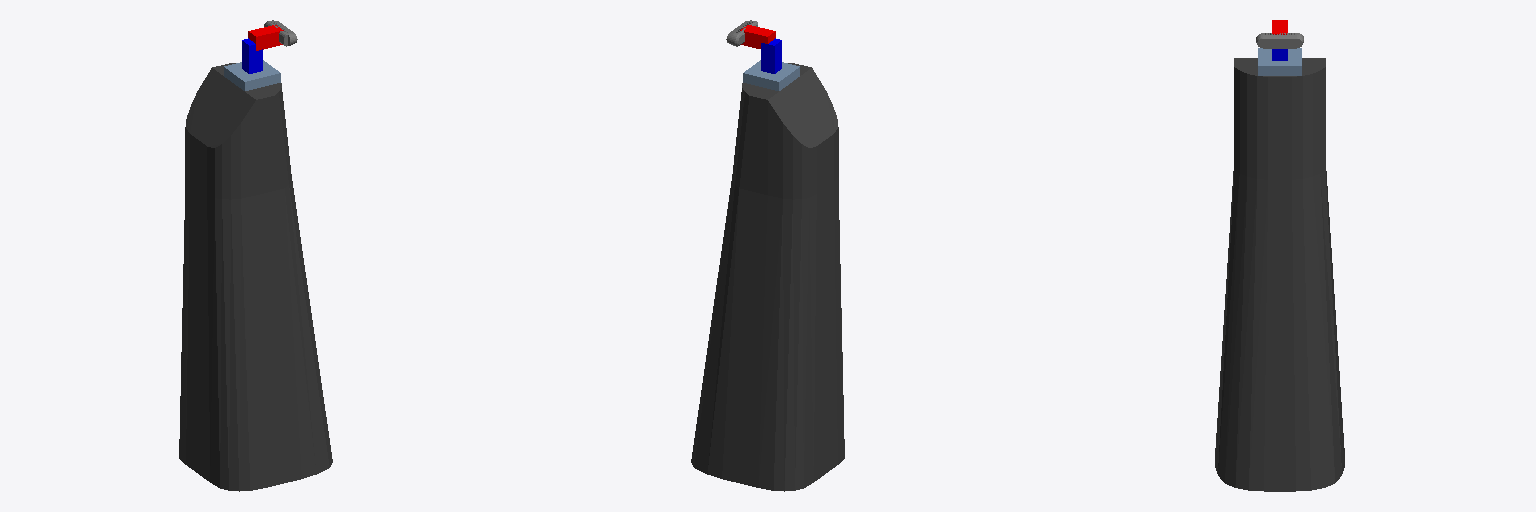
robot.urdf — Gopher Presence:
<?xml version="1.0" encoding="utf-8"?>
<!-- =================================================================================== -->
<!-- |    This document was autogenerated by xacro from gopher_presence.xacro                   | -->
<!-- |    EDITING THIS FILE BY HAND IS NOT RECOMMENDED                                 | -->
<!-- =================================================================================== -->
<robot name="Gopher Presence">
  <link name="gopher_presence/base_link"/>
  <link name="gopher_presence/chassis_link">
    <inertial>
      <origin rpy="0 0 0" xyz="-0.0036 0.0 0.0014"/>
      <mass value="70.1294"/>
      <inertia ixx="1.225" ixy="0.0099" ixz="0.0062" iyy="1.2853" iyz="-0.0034" izz="0.987"/>
    </inertial>
    <visual>
      <origin rpy="0 0 0" xyz="0 0 0"/>
      <geometry>
        <mesh filename="package://gopher_description/fetch_description/meshes/base_link.dae"/>
      </geometry>
    </visual>
    <collision>
      <origin rpy="0 0 0" xyz="0 0 0"/>
      <geometry>
        <mesh filename="package://gopher_description/fetch_description/meshes/base_link_collision.STL"/>
      </geometry>
    </collision>
  </link>
  <joint name="gopher_presence/base_joint" type="fixed">
    <parent link="gopher_presence/base_link"/>
    <child link="gopher_presence/chassis_link"/>
  </joint>
  <link name="gopher_presence/r_wheel_link">
    <inertial>
      <origin rpy="0 0 0" xyz="0 0 0"/>
      <mass value="4.3542"/>
      <inertia ixx="0.0045" ixy="0" ixz="0" iyy="0.005" iyz="0" izz="0.0045"/>
    </inertial>
    <visual>
      <origin rpy="0 0 0" xyz="0 0 0"/>
      <geometry>
        <mesh filename="package://gopher_description/fetch_description/meshes/r_wheel_link.STL"/>
      </geometry>
      <material name="">
        <color rgba="0.086 0.506 0.767 1"/>
      </material>
    </visual>
    <collision>
      <origin rpy="0 0 0" xyz="0 0 0"/>
      <geometry>
        <mesh filename="package://gopher_description/fetch_description/meshes/r_wheel_link_collision.STL"/>
      </geometry>
    </collision>
  </link>
  <joint name="gopher_presence/r_wheel_joint" type="continuous">
    <origin rpy="-6.123E-17 0 0" xyz="0.0012914 -0.18738 0.0605"/>
    <parent link="gopher_presence/chassis_link"/>
    <child link="gopher_presence/r_wheel_link"/>
    <axis xyz="0 1 0"/>
    <limit effort="8.85" velocity="34.8"/>
  </joint>
  <link name="gopher_presence/l_wheel_link">
    <inertial>
      <origin rpy="0 0 0" xyz="0 0 0"/>
      <mass value="4.3542"/>
      <inertia ixx="0.0045" ixy="0" ixz="0" iyy="0.005" iyz="0" izz="0.0045"/>
    </inertial>
    <visual>
      <origin rpy="0 0 0" xyz="0 0 0"/>
      <geometry>
        <mesh filename="package://gopher_description/fetch_description/meshes/l_wheel_link.STL"/>
      </geometry>
      <material name="">
        <color rgba="0.086 0.506 0.767 1"/>
      </material>
    </visual>
    <collision>
      <origin rpy="0 0 0" xyz="0 0 0"/>
      <geometry>
        <mesh filename="package://gopher_description/fetch_description/meshes/l_wheel_link_collision.STL"/>
      </geometry>
    </collision>
  </link>
  <joint name="gopher_presence/l_wheel_joint" type="continuous">
    <origin rpy="-6.123E-17 0 0" xyz="0.0012914 0.18738 0.0605"/>
    <parent link="gopher_presence/chassis_link"/>
    <child link="gopher_presence/l_wheel_link"/>
    <axis xyz="0 1 0"/>
    <limit effort="8.85" velocity="34.8"/>
  </joint>
  <link name="gopher_presence/estop_link">
    <inertial>
      <origin rpy="0 0 0" xyz="0.002434512737072 -0.00330608315239905 0.00665139196650039"/>
      <mass value="0.00196130439134723"/>
      <inertia ixx="3.02810026604417E-07" ixy="-1.5862023118056E-08" ixz="3.16561396557437E-08" iyy="2.93322917127605E-07" iyz="-4.28833522751273E-08" izz="2.28513272627183E-07"/>
    </inertial>
    <visual>
      <origin rpy="0 0 0" xyz="0 0 0"/>
      <geometry>
        <mesh filename="package://gopher_description/fetch_description/meshes/estop_link.STL"/>
      </geometry>
      <material name="">
        <color rgba="0.8 0 0 1"/>
      </material>
    </visual>
    <collision>
      <origin rpy="0 0 0" xyz="0 0 0"/>
      <geometry>
        <mesh filename="package://gopher_description/fetch_description/meshes/estop_link_collision.STL"/>
      </geometry>
    </collision>
  </link>
  <joint name="gopher_presence/estop_joint" type="fixed">
    <origin rpy="1.5708 0 0" xyz="-0.12465 0.23892 0.31127"/>
    <parent link="gopher_presence/chassis_link"/>
    <child link="gopher_presence/estop_link"/>
    <axis xyz="0 0 0"/>
  </joint>
  <link name="gopher_presence/laser_link">
    <inertial>
      <origin rpy="0 0 0" xyz="-0.0306228970175641 0.0007091682908278 0.0551974119471302"/>
      <mass value="0.00833634573995571"/>
      <inertia ixx="1.01866461240801E-06" ixy="-5.88447626567756E-08" ixz="7.83857244757914E-08" iyy="5.10039589974707E-07" iyz="-7.12664289617235E-09" izz="1.28270671527309E-06"/>
    </inertial>
    <visual>
      <origin rpy="0 0 0" xyz="0 0 0"/>
      <geometry>
        <mesh filename="package://gopher_description/fetch_description/meshes/laser_link.STL"/>
      </geometry>
      <material name="">
        <color rgba="0.792156862745098 0.819607843137255 0.933333333333333 1"/>
      </material>
    </visual>
    <collision>
      <origin rpy="0 0 0" xyz="0 0 0"/>
      <geometry>
        <mesh filename="package://gopher_description/fetch_description/meshes/laser_link_collision.STL"/>
      </geometry>
    </collision>
  </link>
  <joint name="gopher_presence/laser_joint" type="fixed">
    <origin rpy="3.14159265359 0 0" xyz="0.235 0 0.2878"/>
    <parent link="gopher_presence/chassis_link"/>
    <child link="gopher_presence/laser_link"/>
    <axis xyz="0 0 0"/>
  </joint>
  <link name="gopher_presence/base_camera_link">
    <inertial>
      <origin rpy="0 0 0" xyz="0 0 0"/>
      <mass value="0.001"/>
      <inertia ixx="1E-5" ixy="0" ixz="0" iyy="1E-5" iyz="-0" izz="1E-5"/>
    </inertial>
  </link>
  <joint name="gopher_presence/base_camera_joint" type="fixed">
    <origin rpy="0 -0.17453292519943 0" xyz="0.2645 0 0.198"/>
    <parent link="gopher_presence/chassis_link"/>
    <child link="gopher_presence/base_camera_link"/>
  </joint>
  <link name="gopher_presence/base_camera_optical_frame">
    <inertial>
      <origin rpy="0 0 0" xyz="0 0 0"/>
      <mass value="0.001"/>
      <inertia ixx="1E-5" ixy="0" ixz="0" iyy="1E-5" iyz="-0" izz="1E-5"/>
    </inertial>
  </link>
  <joint name="gopher_presence/base_camera_optical_joint" type="fixed">
    <origin rpy="1.5707963267966 0 1.5707963267966" xyz="0 0 0"/>
    <parent link="gopher_presence/base_camera_link"/>
    <child link="gopher_presence/base_camera_optical_frame"/>
  </joint>
  <link name="gopher_presence/torso">
    <inertial>
      <origin rpy="0 0 0" xyz="0.0 0.0 0.4"/>
      <mass value="12.0"/>
      <inertia ixx="0.68" ixy="0.0" ixz="0.0" iyy="0.73" iyz="0.0" izz="0.13"/>
    </inertial>
    <visual>
      <origin rpy="0 0 0" xyz="0 0 0"/>
      <geometry>
        <mesh filename="package://gopher_description/torso_description/meshes/torso.dae"/>
      </geometry>
      <material name="">
        <color rgba="0.3 0.3 0.3 1"/>
      </material>
    </visual>
    <collision>
      <origin rpy="0 0 0" xyz="0 0 0"/>
      <geometry>
        <mesh filename="package://gopher_description/torso_description/meshes/torso.dae"/>
      </geometry>
    </collision>
  </link>
  <joint name="gopher_presence/torso_joint" type="fixed">
    <parent link="gopher_presence/chassis_link"/>
    <child link="gopher_presence/torso"/>
    <origin rpy="0 0 0" xyz="-0.0 0 0.36"/>
    <axis xyz="0 0 1"/>
  </joint>
  <link name="gopher_presence/main_cam_support">
    <collision>
      <origin rpy="0 0 0" xyz="0 0 0.01"/>
      <geometry>
        <box size="0.08 0.08 0.02"/>
      </geometry>
    </collision>
    <visual>
      <origin rpy="0 0 0" xyz="0 0 0.01"/>
      <geometry>
        <box size="0.08 0.08 0.02"/>
      </geometry>
      <material name="">
        <color rgba="0.5 0.6 0.7 1"/>
      </material>
    </visual>
    <inertial>
      <origin rpy="0 0 0" xyz="0 0 0.01"/>
      <mass value="0.36"/>
      <inertia ixx="2.04e-04" ixy="0.0" ixz="0.0" iyy="2.04e-04" iyz="0.0" izz="3.84e-04"/>
    </inertial>
  </link>
  <joint name="gopher_presence/main_cam_support_joint" type="fixed">
    <parent link="gopher_presence/torso"/>
    <child link="gopher_presence/main_cam_support"/>
    <origin rpy="0 0 0" xyz="0.0 0.0 0.8"/>
    <axis xyz="0 0 1"/>
  </joint>
  <link name="gopher_presence/main_cam_yaw_link">
    <collision>
      <origin rpy="0 0 0" xyz="0 0 0.03"/>
      <geometry>
        <box size="0.03 0.03 0.06"/>
      </geometry>
    </collision>
    <visual>
      <origin rpy="0 0 0" xyz="0 0 0.03"/>
      <geometry>
        <box size="0.03 0.03 0.06"/>
      </geometry>
      <material name="blue">
        <color rgba="0 0 1 1"/>
      </material>
    </visual>
    <inertial>
      <origin rpy="0 0 0" xyz="0 0 0.03"/>
      <mass value="0.36"/>
      <inertia ixx="1.35e-01" ixy="0.0" ixz="0.0" iyy="1.35e-01" iyz="0.0" izz="5.4e-02"/>
    </inertial>
  </link>
  <joint name="gopher_presence/main_cam_yaw_joint" type="revolute">
    <parent link="gopher_presence/main_cam_support"/>
    <child link="gopher_presence/main_cam_yaw_link"/>
    <origin rpy="0 0 0" xyz="0 0 0.02"/>
    <axis xyz="0 0 1"/>
    <limit effort="20" lower="-1.047" upper="1.047" velocity="1.0"/>
  </joint>
  <link name="gopher_presence/main_cam_pitch_link">
    <collision>
      <origin rpy="0 1.5708 0" xyz="0.03 0 0"/>
      <geometry>
        <box size="0.03 0.03 0.06"/>
      </geometry>
    </collision>
    <visual>
      <origin rpy="0 1.5708 0" xyz="0.03 0 0"/>
      <geometry>
        <box size="0.03 0.03 0.06"/>
      </geometry>
      <material name="red">
        <color rgba="1 0 0 1"/>
      </material>
    </visual>
    <inertial>
      <origin rpy="0 1.5708 0" xyz="0.03 0 0"/>
      <mass value="0.36"/>
      <inertia ixx="1.35e-01" ixy="0.0" ixz="0.0" iyy="1.35e-01" iyz="0.0" izz="5.4e-02"/>
    </inertial>
  </link>
  <joint name="gopher_presence/main_cam_pitch_joint" type="revolute">
    <parent link="gopher_presence/main_cam_yaw_link"/>
    <child link="gopher_presence/main_cam_pitch_link"/>
    <origin rpy="1.5708 0 0" xyz="0.0 0.0 0.06"/>
    <axis xyz="0 0 1"/>
    <limit effort="20" lower="-1.047" upper="1.047" velocity="1.0"/>
  </joint>
  <material name="aluminum">
    <color rgba="0.5 0.5 0.5 1"/>
  </material>
  <!-- camera body, with origin at bottom screw mount -->
  <joint name="gopher_presence/main_cam_joint" type="fixed">
    <origin rpy="-1.57 0 0" xyz="0.06 -0.01 0.0"/>
    <parent link="gopher_presence/main_cam_pitch_link"/>
    <child link="gopher_presence/main_cam_bottom_screw_frame"/>
  </joint>
  <link name="gopher_presence/main_cam_bottom_screw_frame">
    <inertial>
      <origin rpy="0 0 0" xyz="0 0 0"/>
      <mass value="0.001"/>
      <inertia ixx="1E-5" ixy="0" ixz="0" iyy="1E-5" iyz="-0" izz="1E-5"/>
    </inertial>
  </link>
  <joint name="gopher_presence/main_cam_link_joint" type="fixed">
    <origin rpy="0 0 0" xyz="0 0.0175 0.0125"/>
    <parent link="gopher_presence/main_cam_bottom_screw_frame"/>
    <child link="gopher_presence/main_cam_link"/>
  </joint>
  <link name="gopher_presence/main_cam_link">
    <visual>
      <origin rpy="1.57079632679 0 1.57079632679" xyz="0.0149 -0.0175 0"/>
      <geometry>
        <mesh filename="package://gopher_description/realsense2_description/meshes/d435.dae"/>
      </geometry>
      <material name="aluminum"/>
    </visual>
    <collision>
      <origin rpy="0 0 0" xyz="0 -0.0175 0"/>
      <geometry>
        <box size="0.02505 0.09 0.025"/>
      </geometry>
    </collision>
    <inertial>
      <!-- The following are not reliable values, and should not be used for modeling -->
      <mass value="0.564"/>
      <origin xyz="0 0 0"/>
      <inertia ixx="0.003881243" ixy="0.0" ixz="0.0" iyy="0.000498940" iyz="0.0" izz="0.003879257"/>
    </inertial>
  </link>
  <!-- camera depth joints and links -->
  <joint name="gopher_presence/main_cam_depth_joint" type="fixed">
    <origin rpy="0 0 0" xyz="0 0 0"/>
    <parent link="gopher_presence/main_cam_link"/>
    <child link="gopher_presence/main_cam_depth_frame"/>
  </joint>
  <link name="gopher_presence/main_cam_depth_frame">
    <inertial>
      <origin rpy="0 0 0" xyz="0 0 0"/>
      <mass value="0.001"/>
      <inertia ixx="1E-5" ixy="0" ixz="0" iyy="1E-5" iyz="-0" izz="1E-5"/>
    </inertial>
  </link>
  <!-- camera color joints and links -->
  <joint name="gopher_presence/main_cam_color_joint" type="fixed">
    <origin rpy="0 0 0" xyz="0 0.015 0"/>
    <parent link="gopher_presence/main_cam_depth_frame"/>
    <child link="gopher_presence/main_cam_color_frame"/>
  </joint>
  <link name="gopher_presence/main_cam_color_frame">
    <inertial>
      <origin rpy="0 0 0" xyz="0 0 0"/>
      <mass value="0.001"/>
      <inertia ixx="1E-5" ixy="0" ixz="0" iyy="1E-5" iyz="-0" izz="1E-5"/>
    </inertial>
  </link>
</robot>

--- What the picture shows (computed from the rendered views, not written in the file) ---
3 views of the same robot in one strip: view 1: azimuth 30°, elevation 25°; view 2: azimuth 150°, elevation 25°; view 3: azimuth 270°, elevation 25° (orthographic).
Robot: Gopher Presence — 16 links, 15 joints (2 revolute, 2 continuous, 11 fixed); root link gopher_presence/base_link; default pose: every joint at zero.
Links seen in each view (by area): view 1: gopher_presence/torso, gopher_presence/main_cam_support, gopher_presence/main_cam_yaw_link, gopher_presence/main_cam_pitch_link; view 2: gopher_presence/torso, gopher_presence/main_cam_support, gopher_presence/main_cam_yaw_link, gopher_presence/main_cam_pitch_link; view 3: gopher_presence/torso, gopher_presence/main_cam_support, gopher_presence/main_cam_link.
Boxes of the visible links, x1=… form: gopher_presence/torso: x1=179, y1=63, x2=332, y2=491; gopher_presence/main_cam_support: x1=224, y1=60, x2=280, y2=90; gopher_presence/main_cam_yaw_link: x1=242, y1=38, x2=262, y2=73; gopher_presence/main_cam_pitch_link: x1=248, y1=25, x2=283, y2=50; gopher_presence/torso: x1=691, y1=63, x2=844, y2=491; gopher_presence/main_cam_support: x1=743, y1=60, x2=799, y2=90; gopher_presence/main_cam_yaw_link: x1=761, y1=38, x2=781, y2=73; gopher_presence/main_cam_pitch_link: x1=740, y1=25, x2=775, y2=48; gopher_presence/torso: x1=1215, y1=58, x2=1344, y2=491; gopher_presence/main_cam_support: x1=1258, y1=48, x2=1301, y2=75; gopher_presence/main_cam_link: x1=1256, y1=33, x2=1303, y2=48.
Size in the robot's own frame: 0.2643 by 0.2391 by 0.895 metres.
2 mesh visuals loaded from 7 distinct referenced files (2 Collada DAE); not drawn: 5 (reference not matched to a file when rendering).